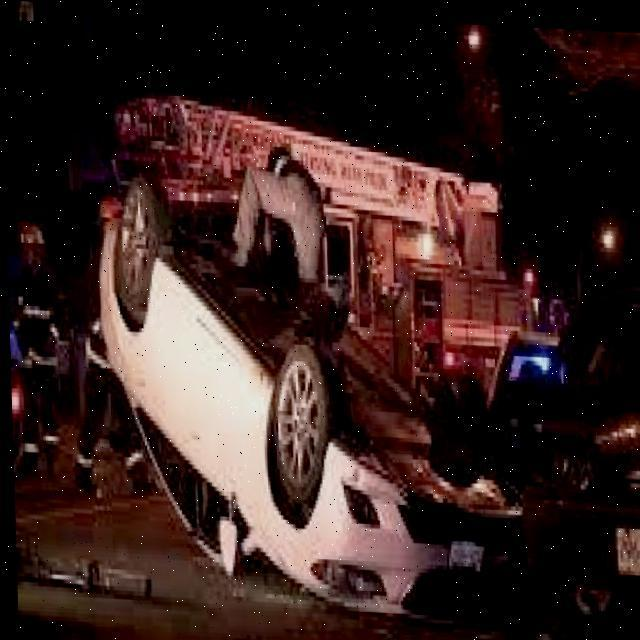multiple_accident: (96, 126, 640, 604)
